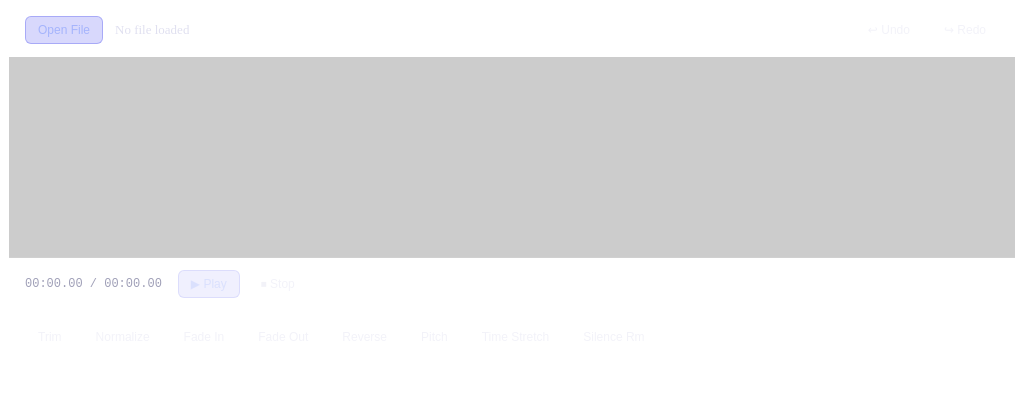
Scenario: WaveEditor Component › Metadata › metadata bar shows BPM, key, sample rate when file loaded
What coordinates should you click on to do the following:
click the button "Open File"
I would click on:
 (64, 30)
Its box is [25, 16, 103, 44].
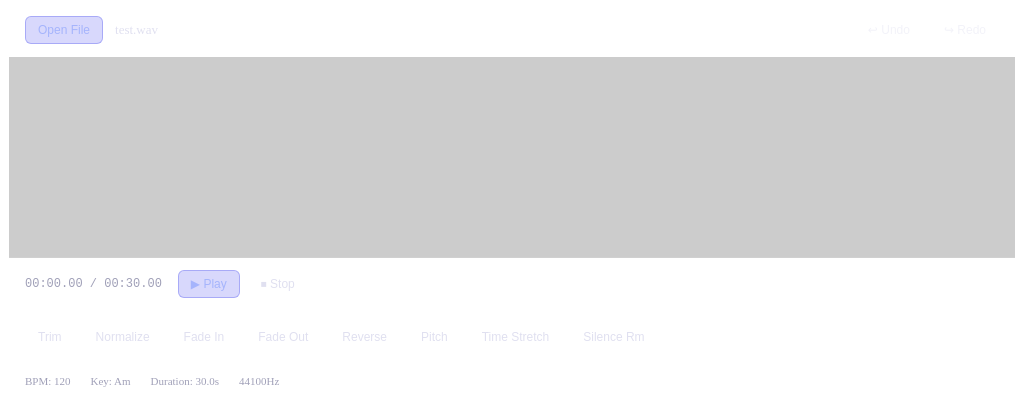
Check: the element with class "metadata-bar" shows "120", box [25, 375, 70, 387]
Check: the element with class "metadata-bar" shows "Am", box [90, 375, 130, 387]
Check: the element with class "metadata-bar" shows "44100", box [239, 375, 279, 387]
